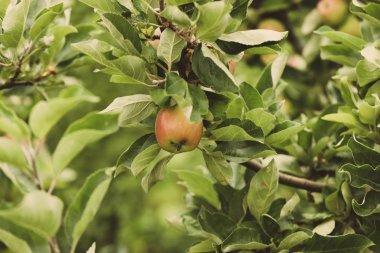apple: (155, 103, 204, 153)
